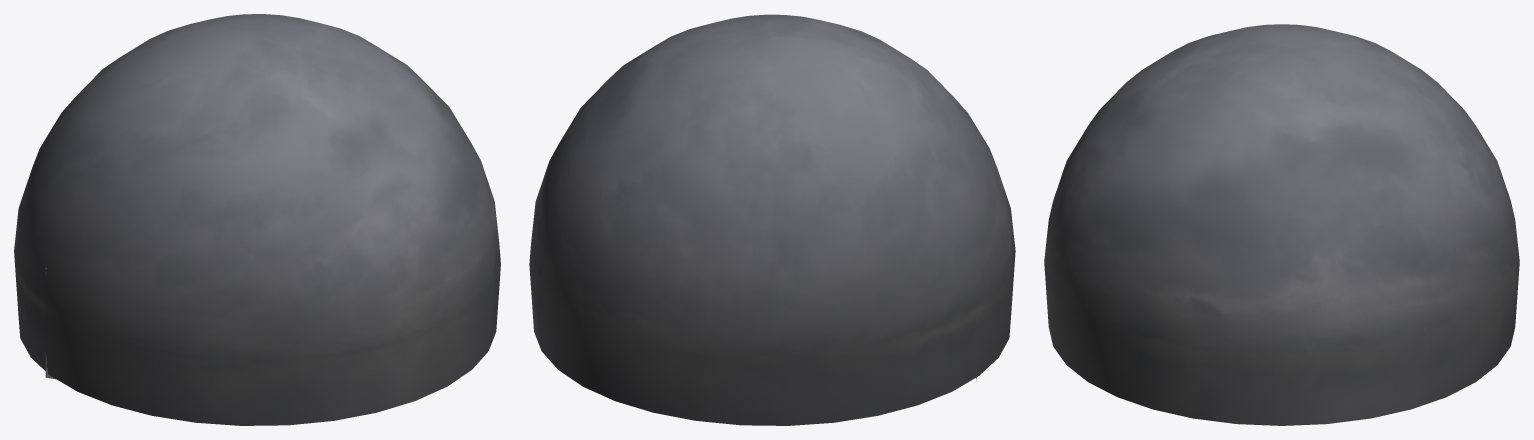
The model's file is cabin.gltf.
3 renders of one model, left to right at view 1: azimuth 30°, elevation 25°; view 2: azimuth 150°, elevation 25°; view 3: azimuth 270°, elevation 25°, orthographic. The views are drawn at different scales.
Visible parts, largest first — view 1: skybox; view 2: skybox; view 3: skybox.
Boxes of the visible parts, <box> form: skybox: <box>14,14,500,425</box>; skybox: <box>529,14,1015,425</box>; skybox: <box>1044,24,1519,425</box>.
Bounding box in the file's own units: 326 × 216 × 326.
